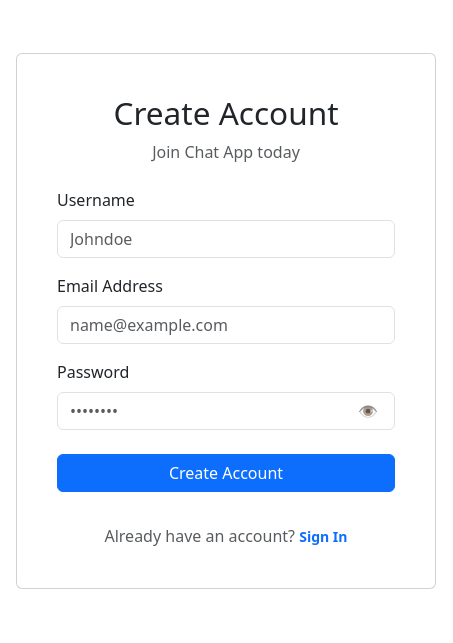
Register Component › submits form successfully and redirects to /login after delay
The image size is (453, 643).
# Fill in inputs
Type "john_doe" into the field labelled "Username". click: [226, 239]
box: [57,220,395,258]
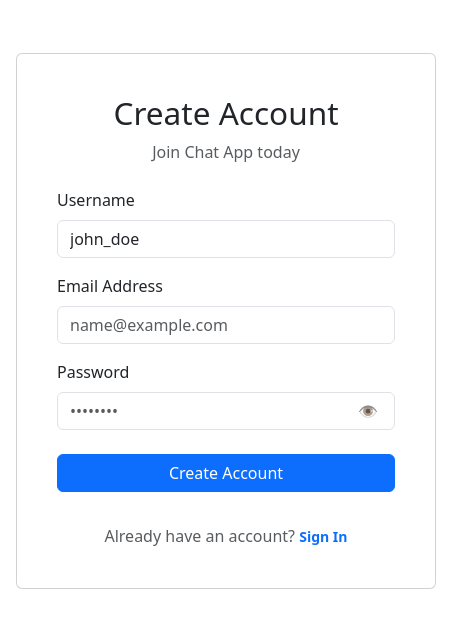
Type "john@example.com" into the field labelled "Email Address". click: [226, 325]
box: [57,306,395,344]
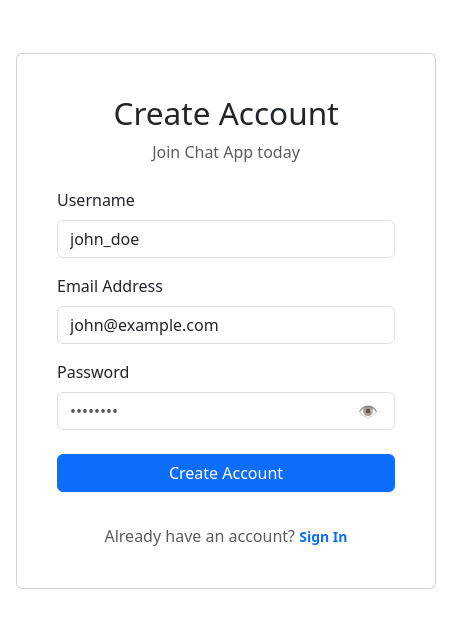
Type "password123" into the password field labelled "Password". click: [226, 411]
box: [57,392,395,430]
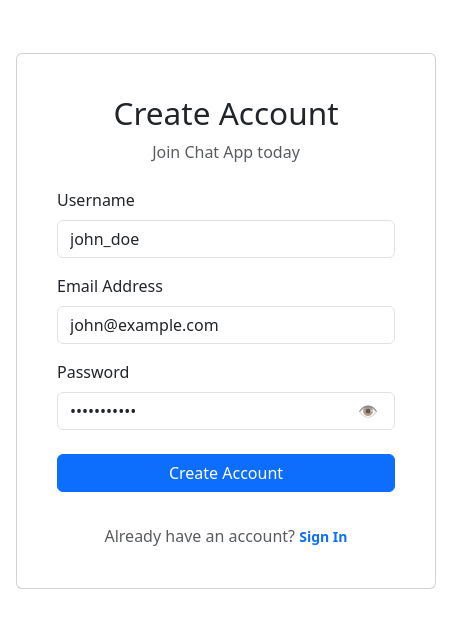
# Submit form
Click the button "Create Account". click: [226, 473]
box: [57,454,395,492]
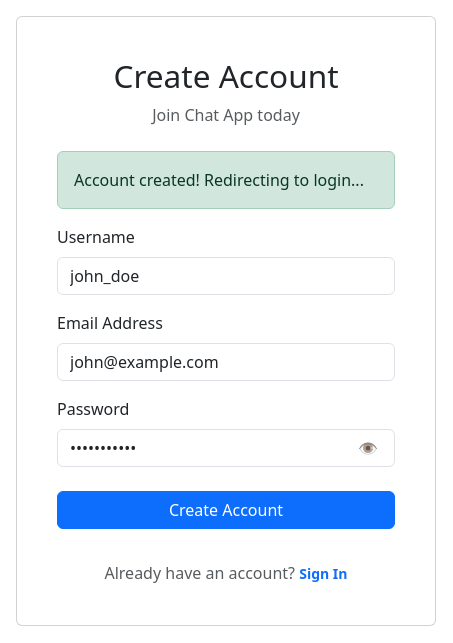
Check: the text "Account created! Redirecting to login..." is shown, box [57,151,395,209]
